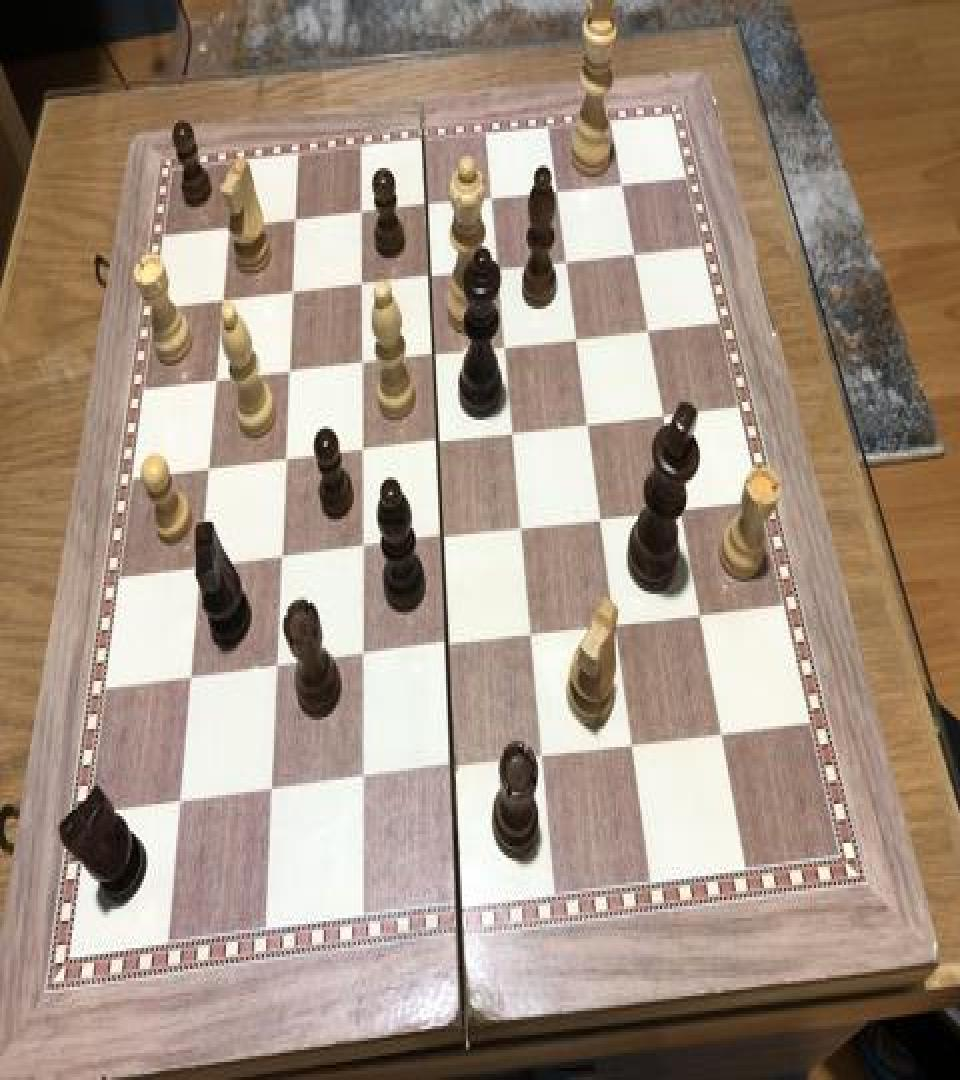xcorner: (428, 520, 452, 557), (687, 595, 711, 632), (347, 640, 371, 677), (262, 652, 286, 689), (618, 727, 642, 764), (609, 165, 633, 201), (480, 180, 504, 216), (415, 189, 439, 225), (350, 196, 374, 232), (285, 204, 309, 240), (220, 213, 244, 249), (621, 234, 645, 270), (554, 242, 578, 278), (486, 250, 510, 286), (350, 267, 374, 303), (281, 276, 305, 312), (213, 285, 237, 321), (635, 310, 659, 346), (564, 320, 588, 356), (421, 338, 445, 374), (349, 346, 373, 382), (277, 356, 301, 392), (205, 364, 229, 400), (650, 394, 674, 430), (575, 404, 599, 440), (500, 414, 524, 450), (425, 423, 449, 459), (349, 434, 373, 470), (273, 442, 297, 478), (196, 453, 220, 489), (667, 489, 691, 525), (588, 500, 612, 536), (508, 510, 532, 546), (348, 531, 372, 567), (268, 542, 292, 578), (187, 552, 211, 588), (602, 606, 626, 642), (518, 618, 542, 654), (433, 628, 457, 664), (176, 663, 200, 699), (708, 716, 732, 752), (528, 741, 552, 777), (438, 753, 462, 789), (347, 765, 371, 801), (255, 777, 279, 813), (164, 789, 188, 825), (545, 173, 569, 208), (418, 260, 442, 295), (493, 329, 517, 364)
